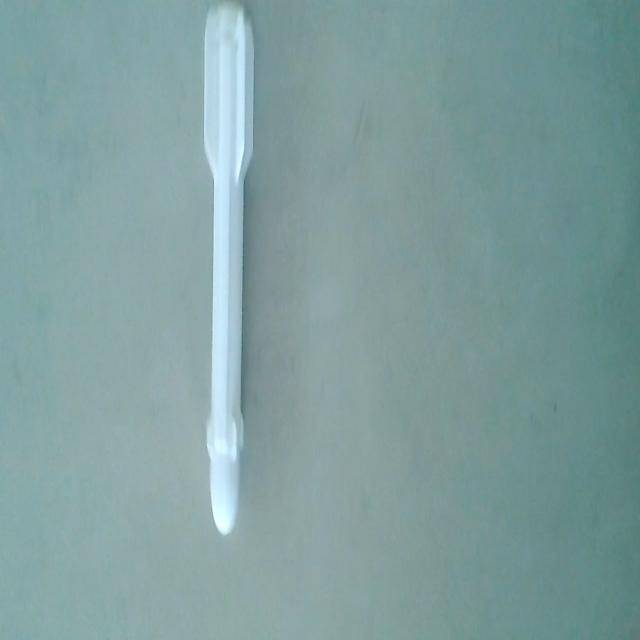Rocket: (198, 4, 258, 536)
